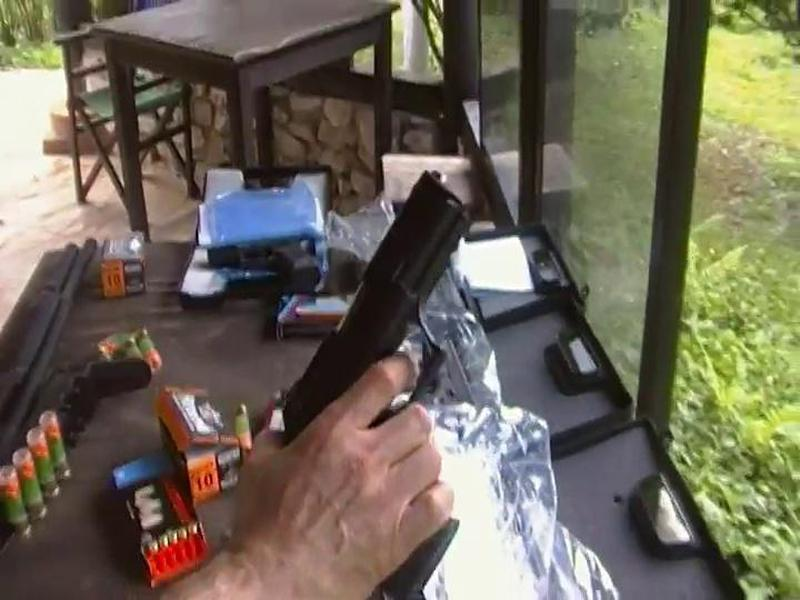Pistola: (278, 166, 489, 600)
